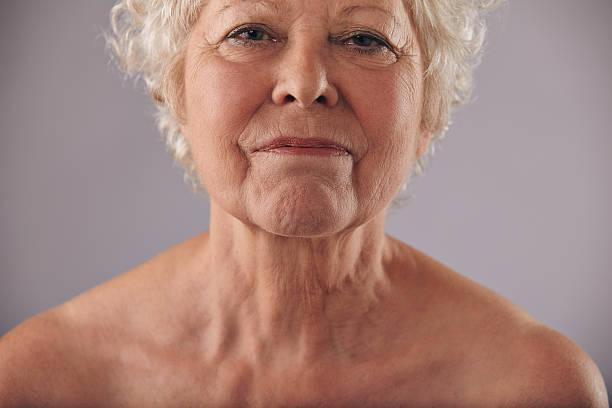Dry-Skin: (355, 60, 427, 193), (233, 162, 340, 233)
